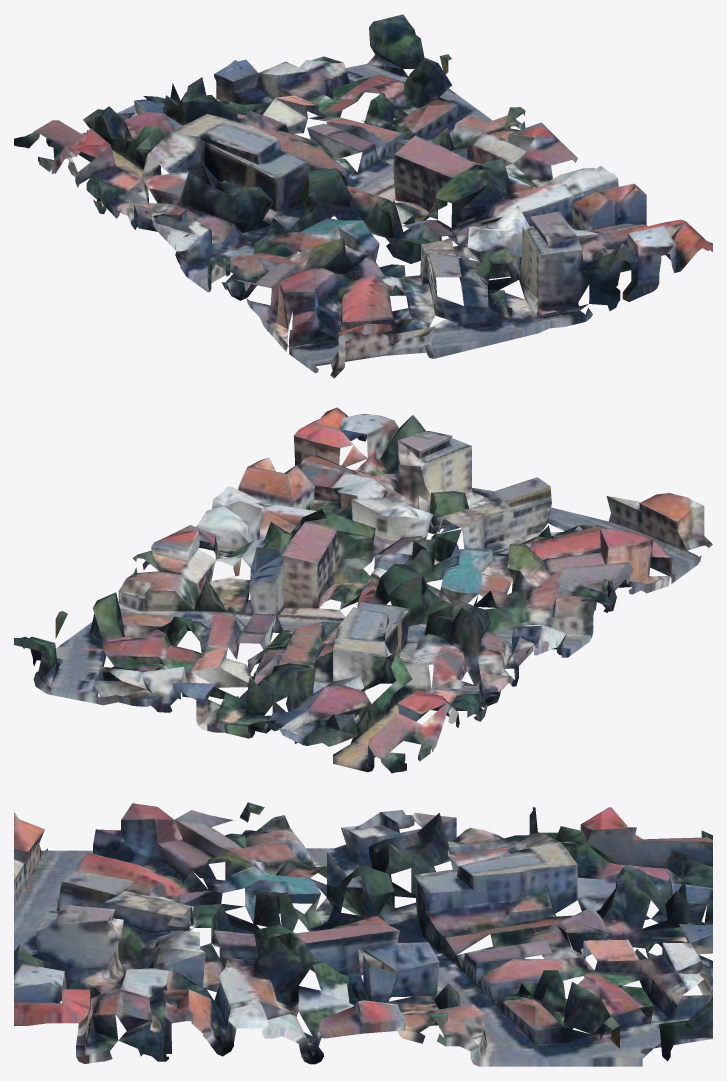
3 renders of one model, top to bottom at view 1: azimuth 30°, elevation 25°; view 2: azimuth 150°, elevation 25°; view 3: azimuth 270°, elevation 25°, orthographic. The views are drawn at different scales.
Parts seen in each view (by area): view 1: 304362727043614264_0; view 2: 304362727043614264_0; view 3: 304362727043614264_0.
Part boxes in pixels (left/top/right/bottom): 304362727043614264_0: left=14, top=14, right=712, bottom=378; 304362727043614264_0: left=14, top=407, right=712, bottom=773; 304362727043614264_0: left=14, top=802, right=712, bottom=1066.
Size of the model in its own units: 111 by 20.96 by 153.
1 material, 1 textured.
